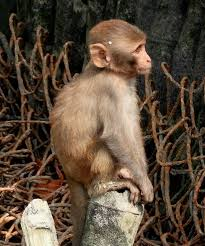monkey: (14, 9, 202, 222)
